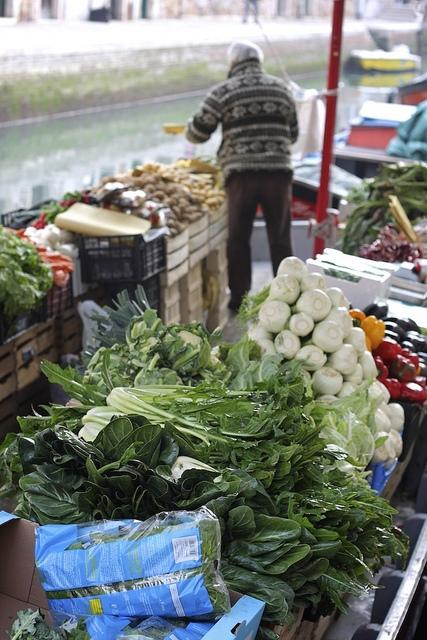onion: (286, 288, 332, 322), (319, 306, 353, 341), (258, 300, 292, 333), (311, 320, 346, 352), (326, 344, 358, 375), (269, 274, 300, 304), (276, 256, 308, 285), (312, 367, 344, 395), (296, 344, 328, 372), (274, 330, 300, 359), (285, 313, 315, 337), (343, 326, 367, 356), (370, 432, 390, 466), (324, 287, 350, 311), (357, 351, 378, 380), (368, 380, 390, 406), (300, 272, 326, 293), (388, 402, 405, 432), (374, 408, 392, 433), (257, 338, 277, 360), (342, 364, 364, 384), (389, 428, 403, 458), (336, 382, 360, 398), (248, 328, 274, 342), (384, 442, 396, 471), (316, 394, 340, 403)
potato: (188, 211, 206, 223), (160, 198, 179, 208), (188, 194, 206, 204), (150, 190, 168, 200), (142, 183, 158, 194), (160, 172, 176, 182), (171, 205, 182, 219), (178, 197, 192, 207), (131, 178, 144, 188), (182, 179, 194, 189), (170, 193, 182, 203), (179, 184, 191, 194), (184, 205, 198, 213), (164, 183, 174, 194), (199, 202, 210, 212), (103, 176, 116, 184), (144, 160, 154, 170), (177, 203, 188, 212), (134, 165, 145, 174), (115, 176, 128, 183), (206, 189, 216, 198), (218, 190, 228, 199), (178, 223, 186, 233), (198, 188, 208, 196), (214, 196, 224, 204), (192, 202, 202, 208), (156, 180, 166, 185), (174, 220, 180, 228), (152, 197, 160, 202)
